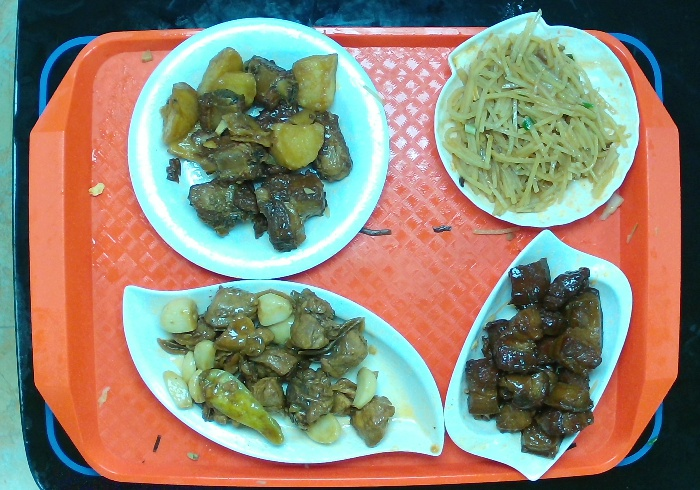RJxy-Bei_Ke_Wan: (432, 7, 645, 229)
RJxy-Jian_Jiao_Fang_Die: (440, 228, 633, 482)
RJxy-Jian_Jiao_Pan: (121, 276, 450, 467)
RJxy-Yuan_Pan: (125, 13, 390, 278)
